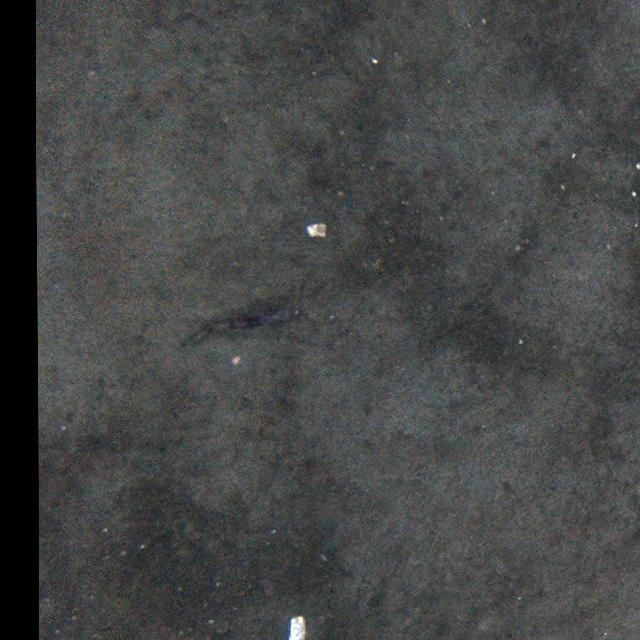roundfish: (186, 302, 300, 347)
